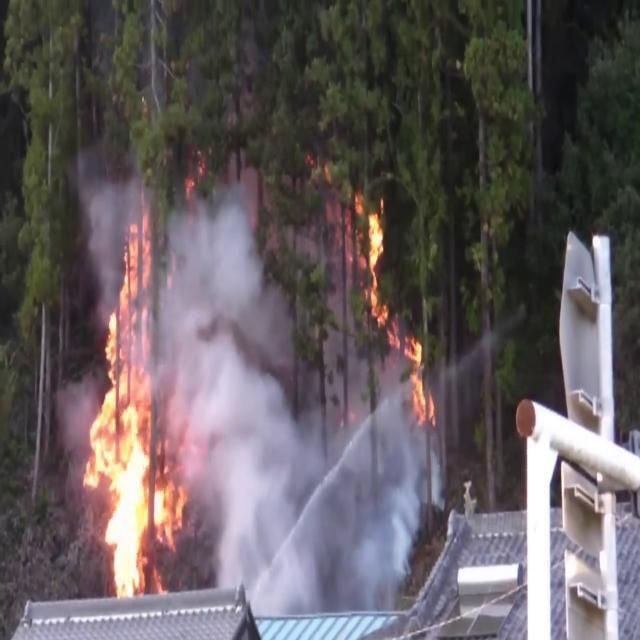Fire: (80, 226, 182, 594), (358, 192, 390, 332), (404, 323, 434, 433)
Smoke: (154, 164, 316, 621)
